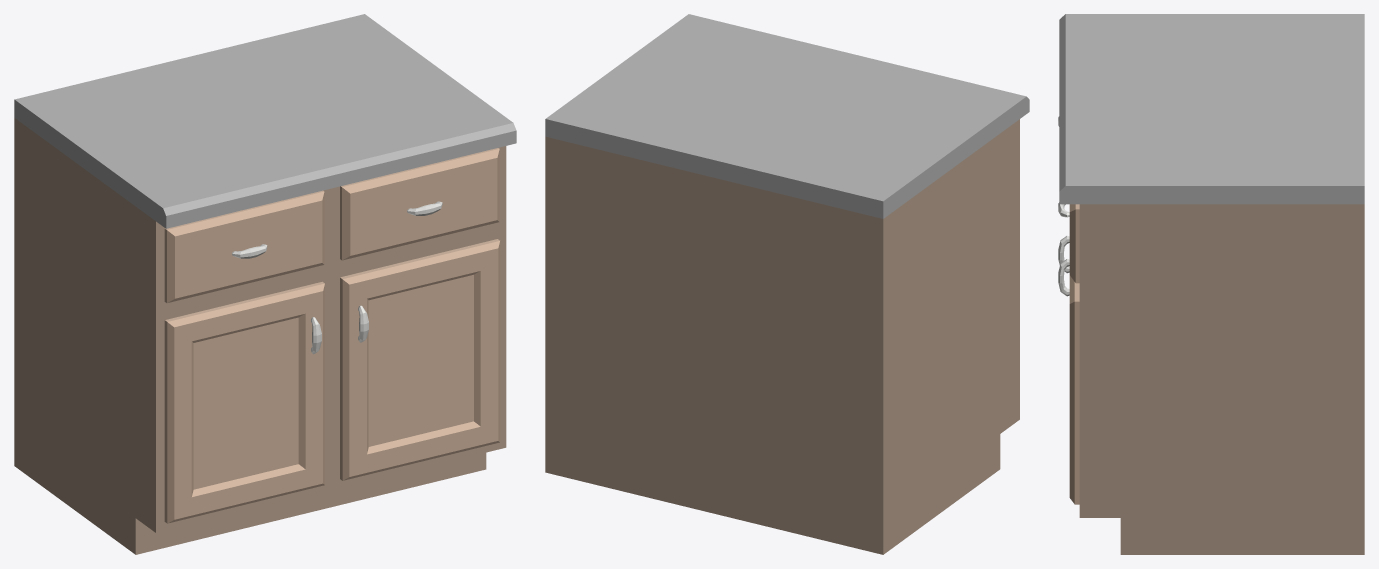
File: Structure_Bathroom_Cabinet_Full.fbx
3 views of the same model, side by side, from view 1: azimuth 30°, elevation 25°; view 2: azimuth 150°, elevation 25°; view 3: azimuth 270°, elevation 25° (orthographic). The views are drawn at different scales.
Visible parts, largest first — view 1: object3.025, object6.006, object9.004, object8.005, object10.004, object1.062; view 2: object3.025, object6.006; view 3: object3.025, object6.006, object8.005, object1.062.
Part boxes in pixels (<box>): object3.025: <box>14,118,506,554</box>; object6.006: <box>14,14,516,228</box>; object9.004: <box>164,281,324,523</box>; object8.005: <box>340,239,500,480</box>; object10.004: <box>164,190,324,302</box>; object1.062: <box>340,148,499,260</box>; object3.025: <box>545,119,1019,554</box>; object6.006: <box>545,14,1029,218</box>; object3.025: <box>1079,204,1364,554</box>; object6.006: <box>1059,14,1364,204</box>; object8.005: <box>1069,275,1079,504</box>; object1.062: <box>1069,204,1079,283</box>.
Bounding box in the file's own units: 100 × 100 × 75.31.
